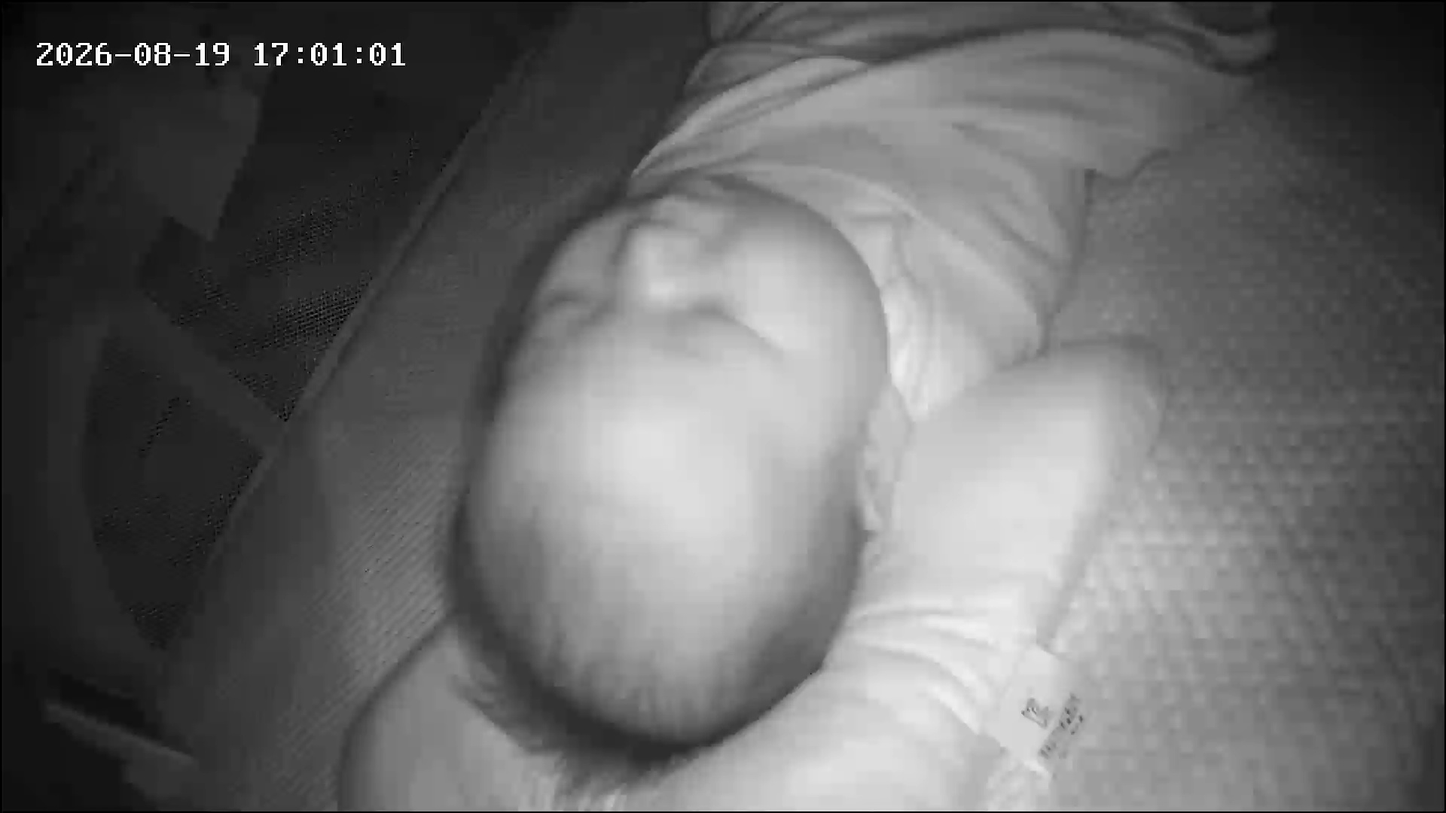baby: (415, 2, 1335, 798)
baby_face: (436, 165, 893, 779)
